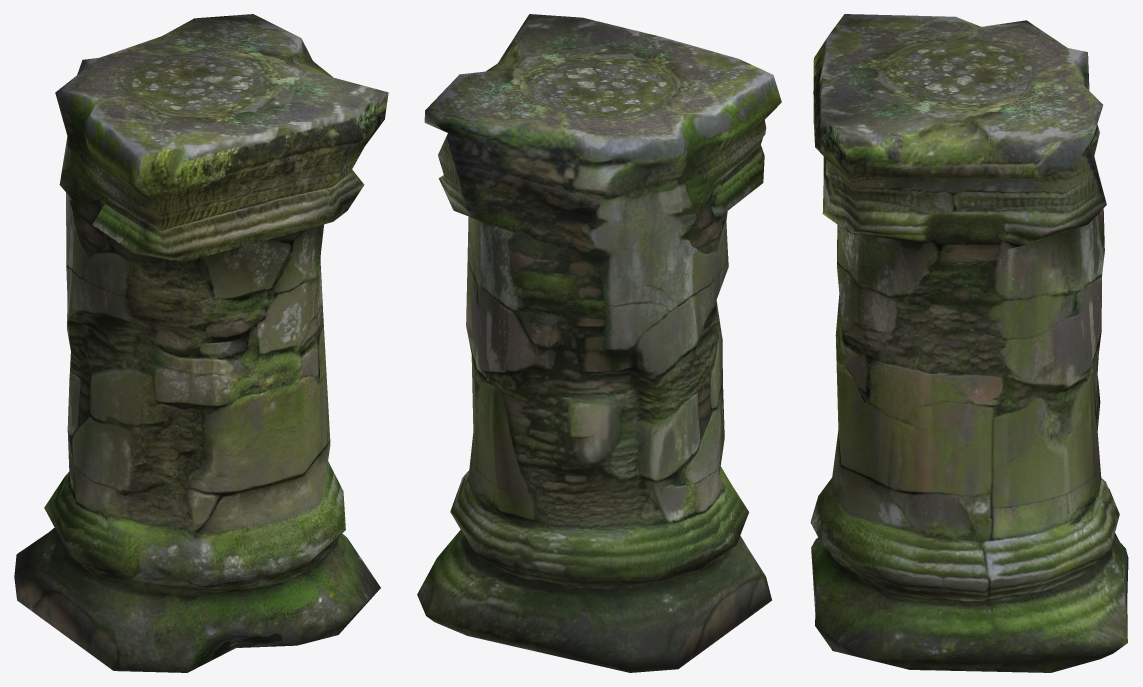
Rendered from pillar-crumbling.glb.
3 renders of one model, left to right at view 1: azimuth 30°, elevation 25°; view 2: azimuth 150°, elevation 25°; view 3: azimuth 270°, elevation 25°, orthographic. The views are drawn at different scales.
Visible parts, largest first — view 1: Mesh1.0; view 2: Mesh1.0; view 3: Mesh1.0.
Part boxes in pixels (x1,y1,x2,y2): Mesh1.0: (14, 14, 388, 672); Mesh1.0: (417, 14, 781, 672); Mesh1.0: (810, 14, 1128, 672).
Bounding box in the file's own units: 1.07 × 2.01 × 1.07.
Materials: 1 (1 with a texture image).
